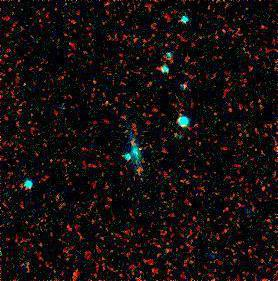star: (125, 153, 155, 183)
